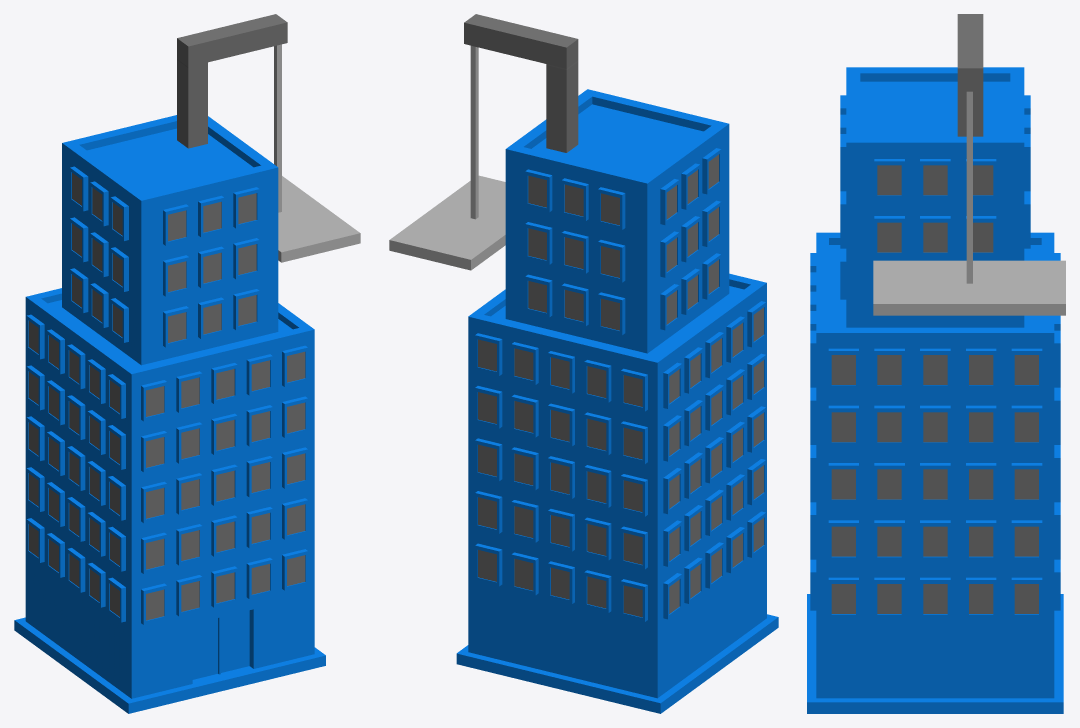
The model's file is buildingwithCrane.fbx.
3 views of the same model, side by side, from view 1: azimuth 30°, elevation 25°; view 2: azimuth 150°, elevation 25°; view 3: azimuth 270°, elevation 25° (orthographic). The views are drawn at different scales.
Parts seen in each view (by area): view 1: Building with antenna.001, Cube, Cube.002, Cube.001; view 2: Building with antenna.001, Cube.002, Cube, Cube.001; view 3: Building with antenna.001, Cube.002, Cube, Cube.001.
Boxes of the visible parts, <box> form: Building with antenna.001: <box>14,115,325,713</box>; Cube: <box>177,14,287,148</box>; Cube.002: <box>278,176,360,262</box>; Cube.001: <box>274,44,281,212</box>; Building with antenna.001: <box>456,89,778,713</box>; Cube.002: <box>389,175,505,270</box>; Cube: <box>464,14,578,152</box>; Cube.001: <box>470,45,478,219</box>; Building with antenna.001: <box>807,67,1063,713</box>; Cube.002: <box>873,260,1065,315</box>; Cube: <box>957,14,983,136</box>; Cube.001: <box>966,91,972,283</box>.
Bounding box in the file's own units: 529 × 1137 × 403.
